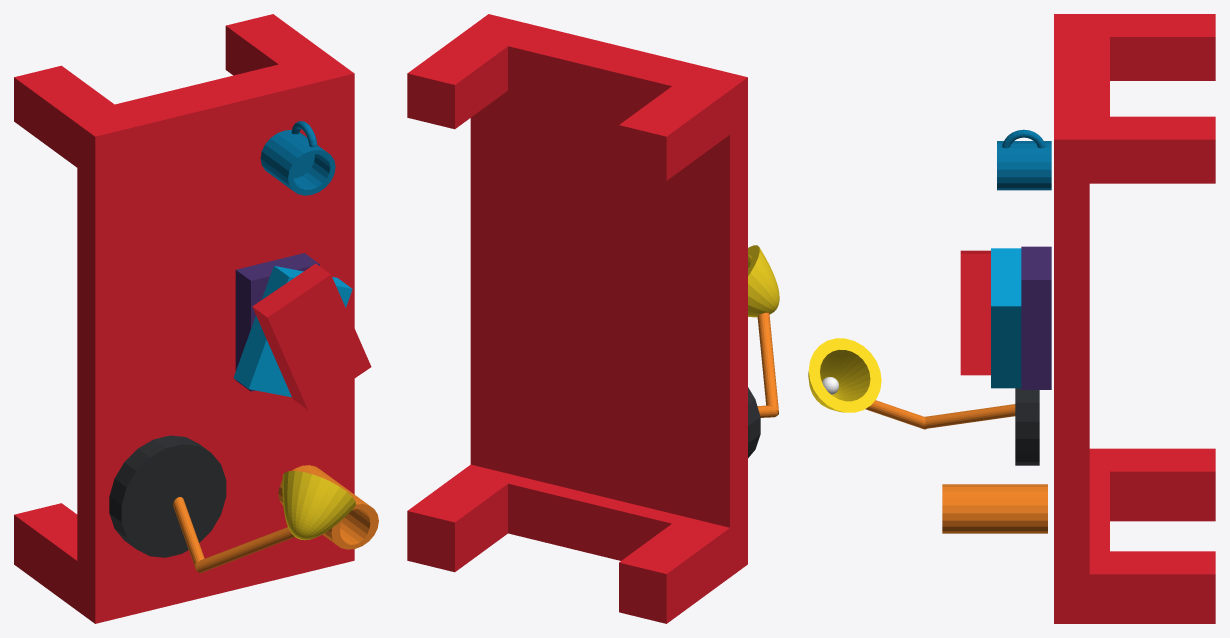
File: tinker.obj
3 views of the same model, side by side, from view 1: azimuth 30°, elevation 25°; view 2: azimuth 150°, elevation 25°; view 3: azimuth 270°, elevation 25° (orthographic).
Visible parts, largest first — view 1: group_0_15277357, group_0_2829873, group_0_16089887, group_0_30377, group_0_16768282, group_0_40919, group_0_4796018; view 2: group_0_15277357, group_0_16768282, group_0_16089887, group_0_2829873; view 3: group_0_15277357, group_0_16089887, group_0_4796018, group_0_40919, group_0_16768282, group_0_30377, group_0_2829873.
Part boxes in pixels (x1=…): group_0_15277357: x1=14, y1=14, x2=371, y2=623; group_0_2829873: x1=109, y1=435, x2=226, y2=557; group_0_16089887: x1=173, y1=465, x2=378, y2=573; group_0_30377: x1=260, y1=121, x2=335, y2=195; group_0_16768282: x1=282, y1=471, x2=355, y2=540; group_0_40919: x1=233, y1=266, x2=352, y2=397; group_0_4796018: x1=235, y1=253, x2=319, y2=391; group_0_15277357: x1=407, y1=14, x2=747, y2=623; group_0_16768282: x1=748, y1=245, x2=779, y2=317; group_0_16089887: x1=757, y1=312, x2=778, y2=417; group_0_2829873: x1=748, y1=387, x2=760, y2=457; group_0_15277357: x1=960, y1=14, x2=1215, y2=623; group_0_16089887: x1=865, y1=400, x2=1047, y2=533; group_0_4796018: x1=1021, y1=246, x2=1051, y2=389; group_0_40919: x1=991, y1=248, x2=1021, y2=388; group_0_16768282: x1=808, y1=338, x2=881, y2=412; group_0_30377: x1=997, y1=129, x2=1051, y2=190; group_0_2829873: x1=1015, y1=388, x2=1039, y2=465.
Bounding box in the file's own units: 49 × 88 × 67.07.
